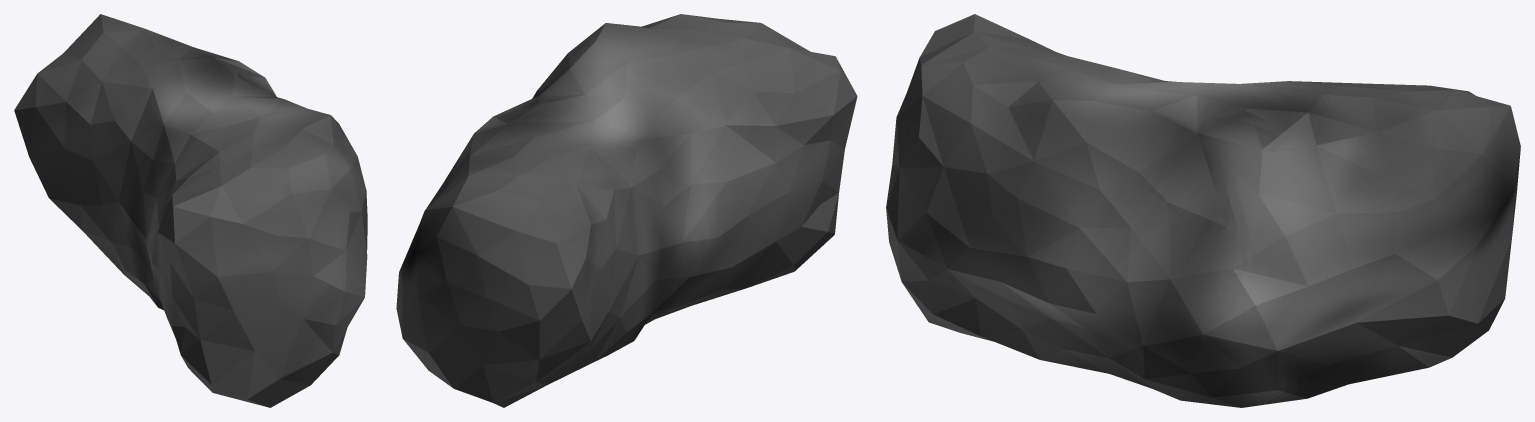
Rendered from StaticRock.fbx.
The picture shows the model from 3 angles, left to right: view 1: azimuth 30°, elevation 25°; view 2: azimuth 150°, elevation 25°; view 3: azimuth 270°, elevation 25°; orthographic projection. The views are drawn at different scales.
Visible parts, largest first — view 1: Cube; view 2: Cube; view 3: Cube.
Boxes of the visible parts, x1,y1,x2,y2 form: Cube: [14, 14, 367, 407]; Cube: [396, 14, 857, 407]; Cube: [886, 14, 1520, 407].
Size of the model in its own units: 405 by 364 by 690.
